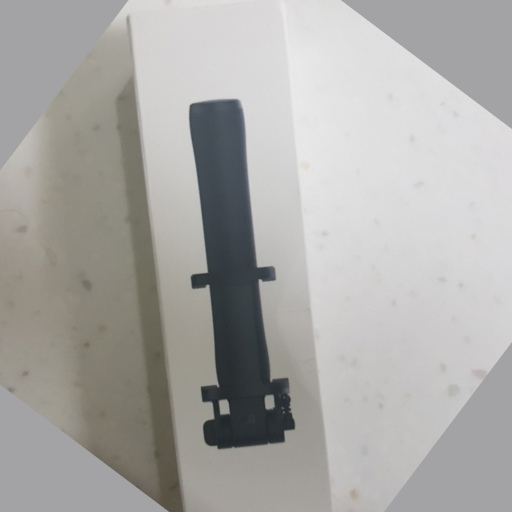Paper_0: (123, 1, 341, 512)
